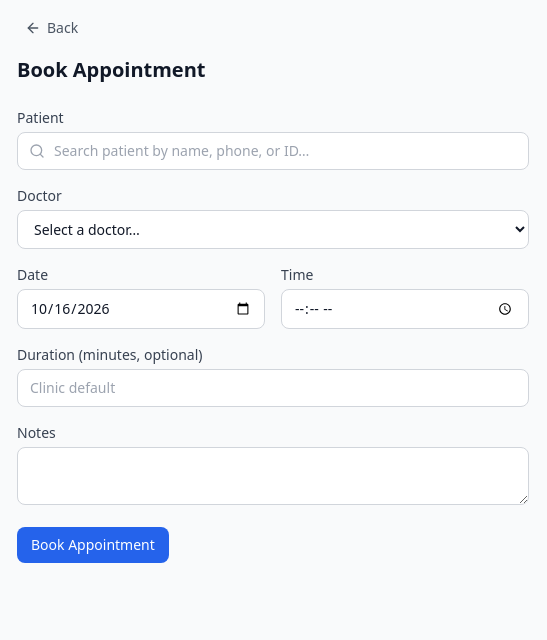
it: Appointment creation › blocks submission when no patient or doctor has been picked
The width and height of the screenshot is (547, 640).
Click the button "Book Appointment": {"x": 93, "y": 545} [17,527,169,563]
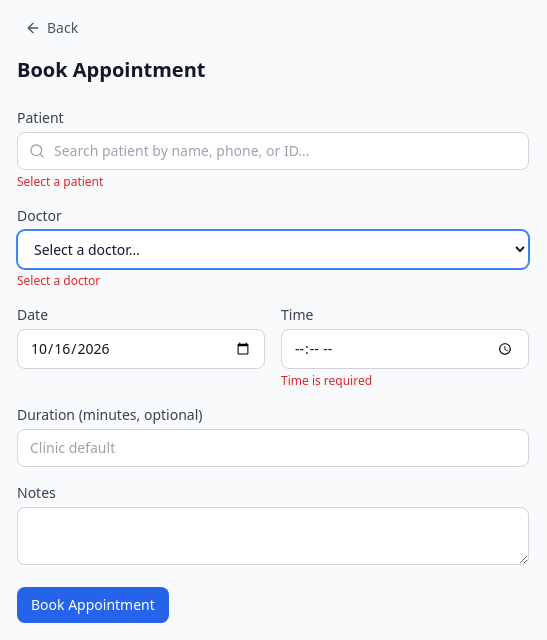
Check: the text "Select a patient" is shown, box [17,173,103,190]
